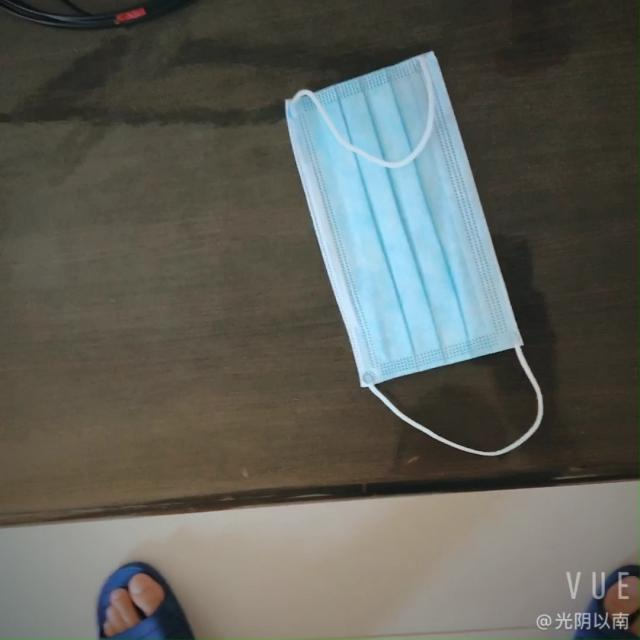face mask: (302, 49, 520, 418)
